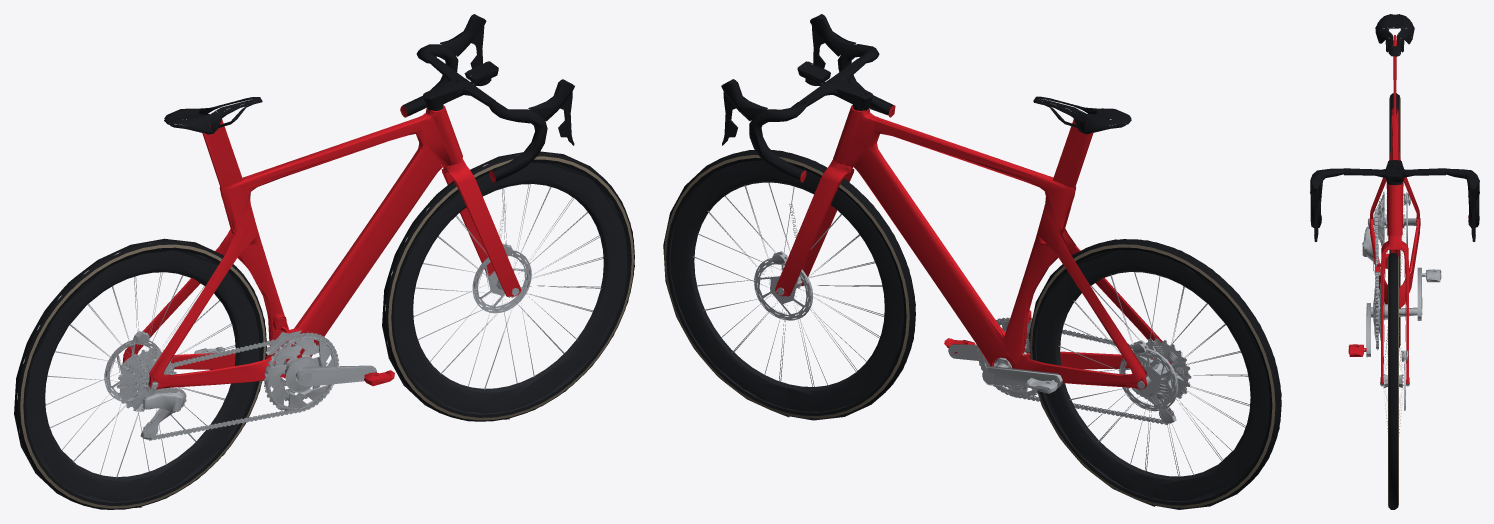
Rendered from road-bike-clean-v44.glb.
The picture shows the model from 3 angles, left to right: view 1: azimuth 30°, elevation 25°; view 2: azimuth 150°, elevation 25°; view 3: azimuth 270°, elevation 25°; orthographic projection. The views are drawn at different scales.
Visible parts, largest first — view 1: Bike finish Object_8, Bike finish Object_7; view 2: Bike finish Object_7, Bike finish Object_8; view 3: Bike finish Object_7, Bike finish Object_8.
Boxes of the visible parts, <box> form: Bike finish Object_8: <box>14,151,634,509</box>; Bike finish Object_7: <box>104,14,607,440</box>; Bike finish Object_7: <box>669,14,1191,424</box>; Bike finish Object_8: <box>663,150,1281,509</box>; Bike finish Object_7: <box>1310,14,1479,395</box>; Bike finish Object_8: <box>1366,93,1422,509</box>.
Bounding box in the file's own units: 1.79 × 1.06 × 0.4799.
